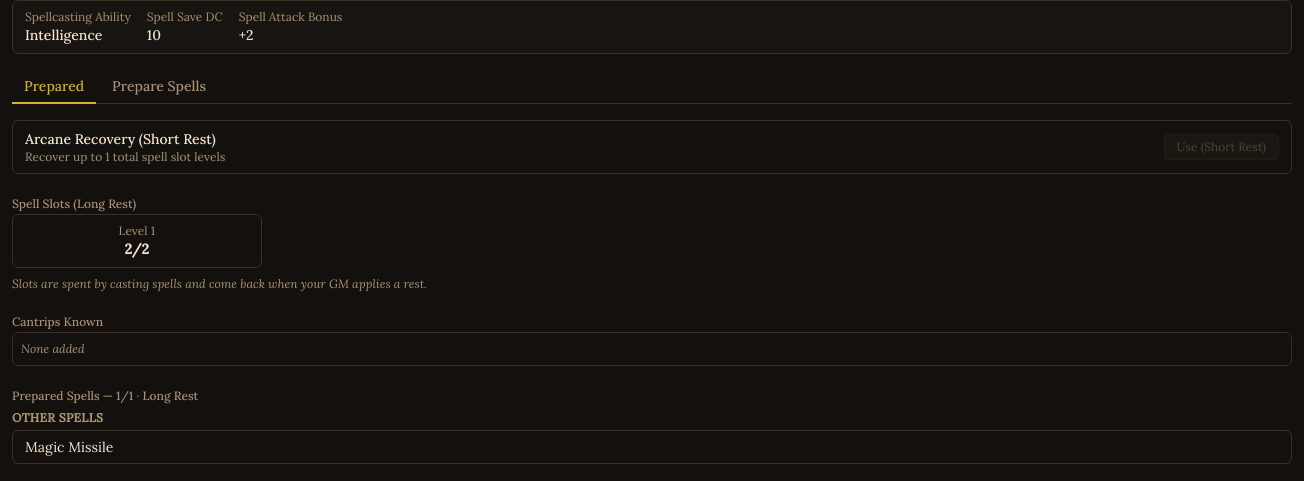
Scenario: WizardSheet prepared spells › cannot add more chips when at the prepare limit
The width and height of the screenshot is (1304, 481).
Step 1. Click the button "Prepare Spells" → {"x": 159, "y": 87}, box [100, 70, 218, 104]
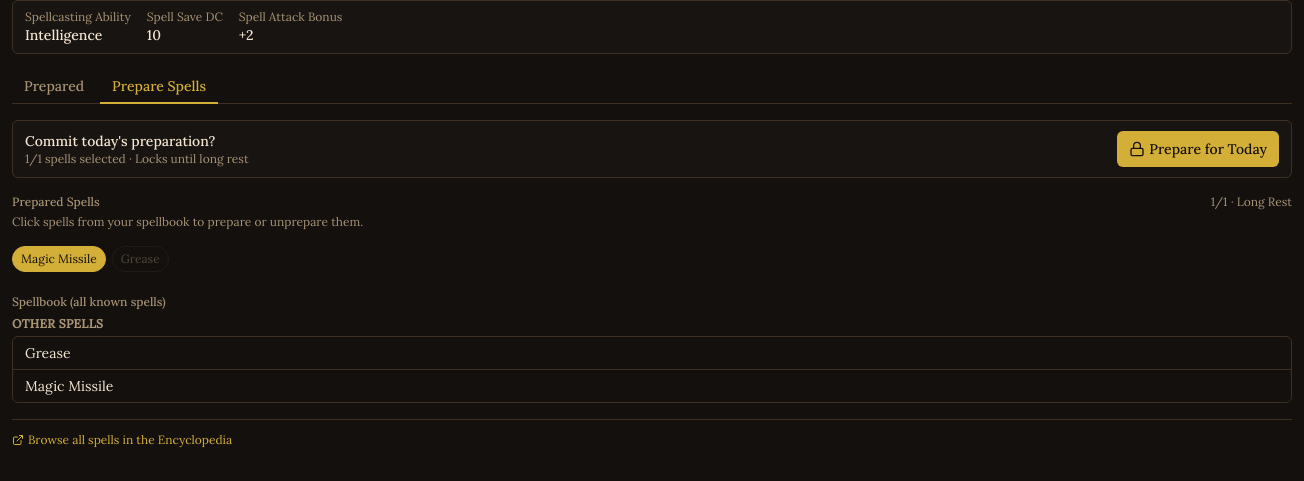
Expected: the 1st button "Grease" is disabled, [112, 246, 169, 272]
